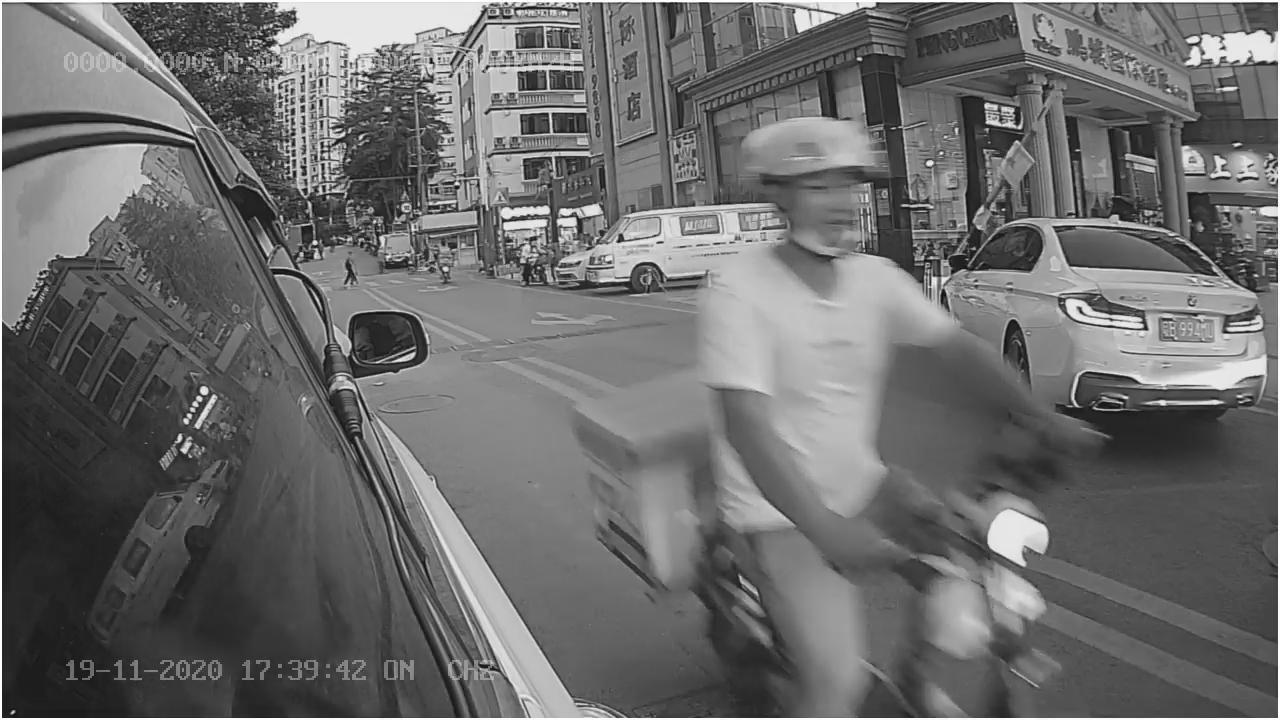person: (696, 121, 905, 469)
